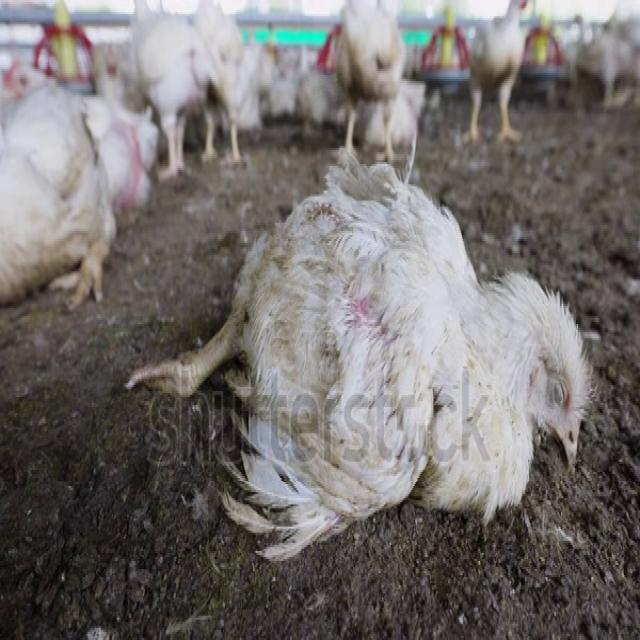injured-animals: (122, 144, 595, 567)
